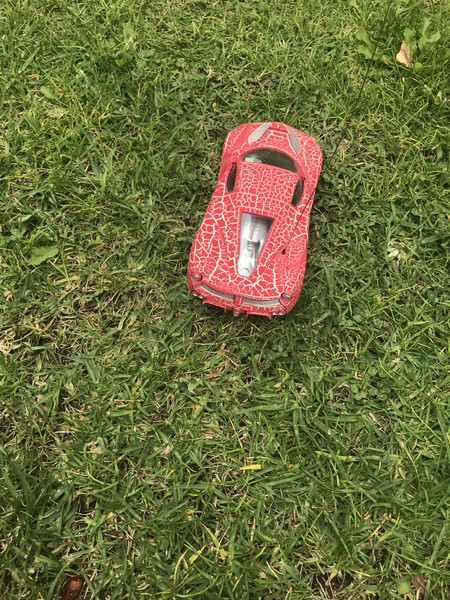RC: (185, 121, 326, 321)
